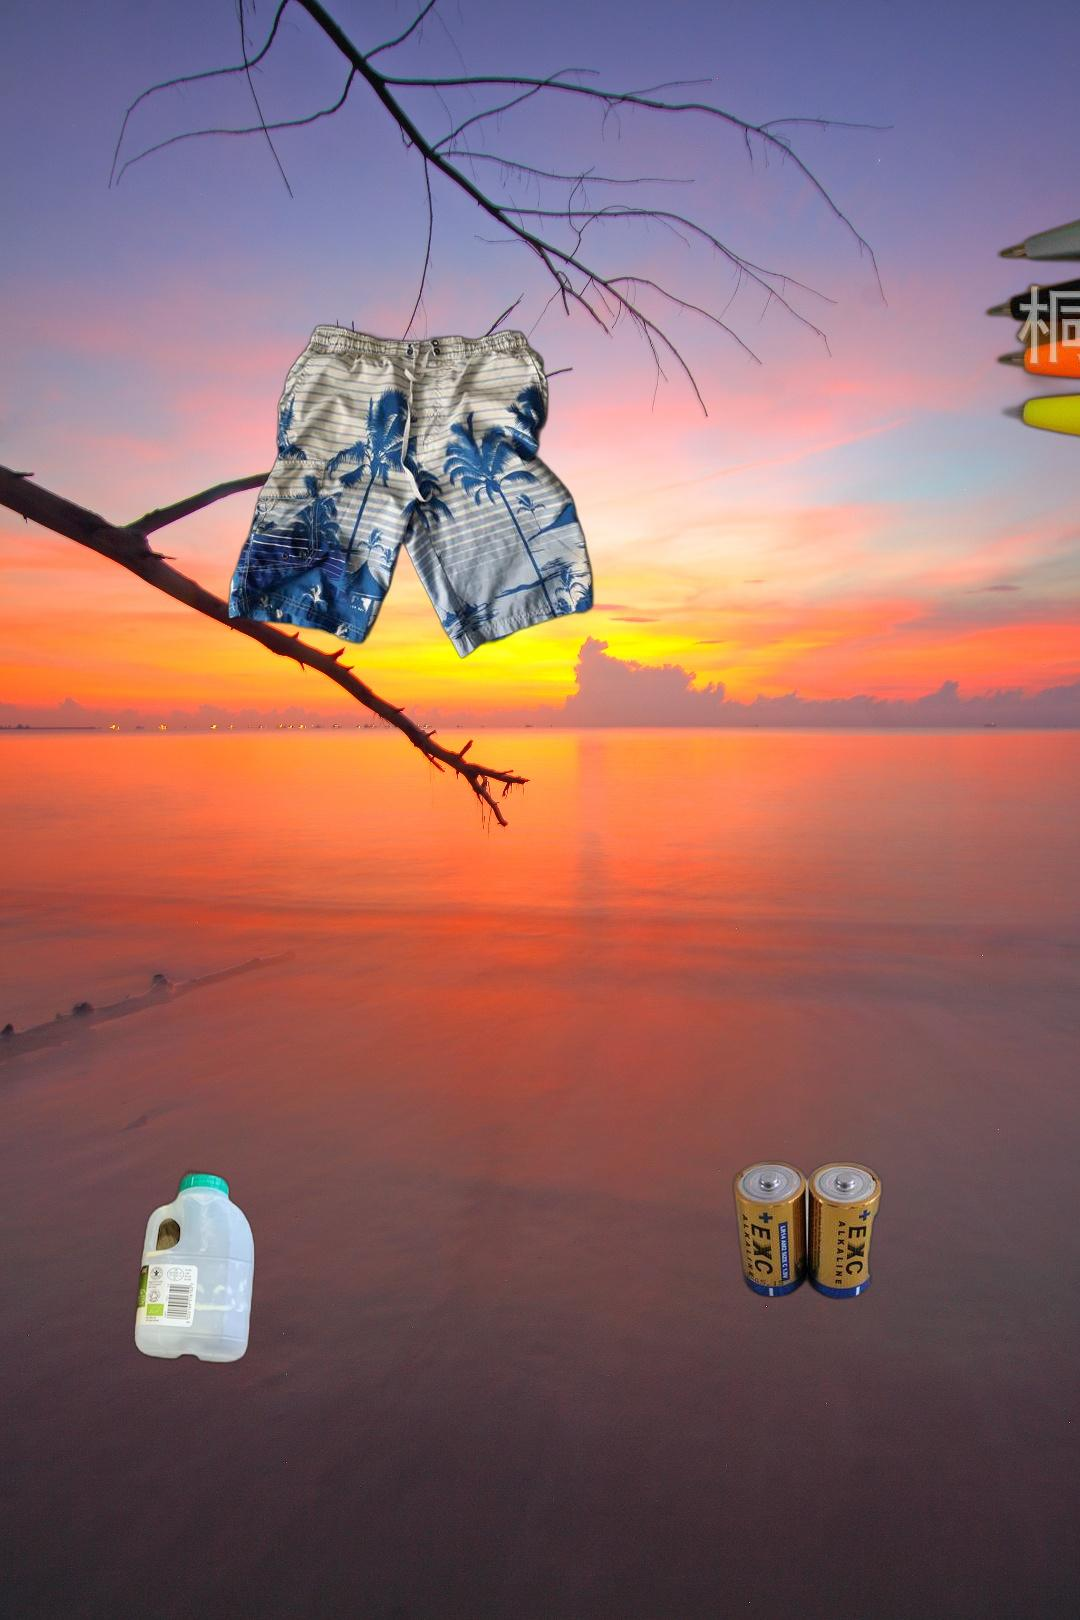battery: (729, 1158, 887, 1302)
clothes: (224, 319, 598, 663)
penholder: (979, 65, 1080, 505)
plastic-bottles: (129, 1166, 260, 1370)
